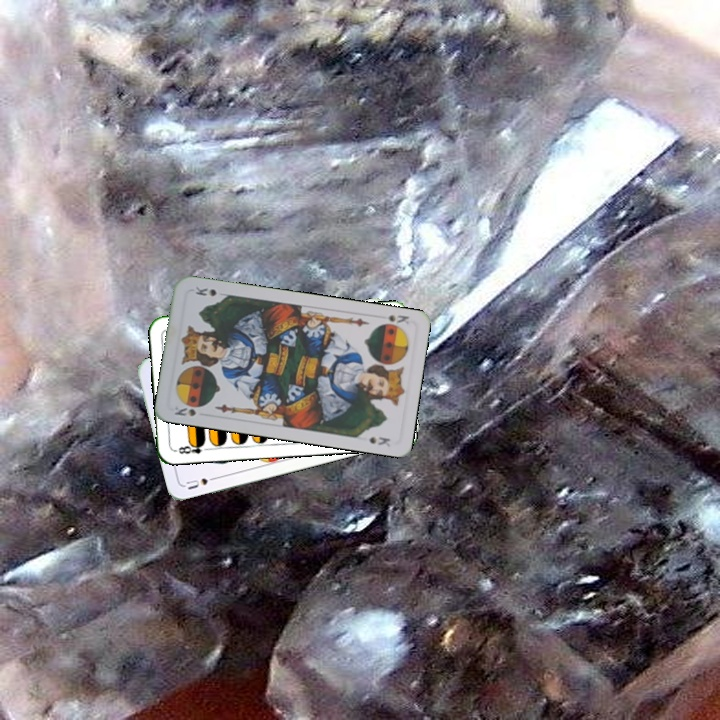E8: (172, 438, 212, 456)
SK: (170, 402, 198, 419), (383, 311, 412, 327)
SU: (182, 472, 221, 492)
